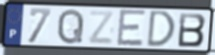7: (28, 8, 53, 45)
B: (177, 11, 208, 48)
D: (146, 9, 178, 49)
E: (116, 8, 147, 48)
Q: (56, 8, 86, 46)
Z: (87, 10, 116, 46)
